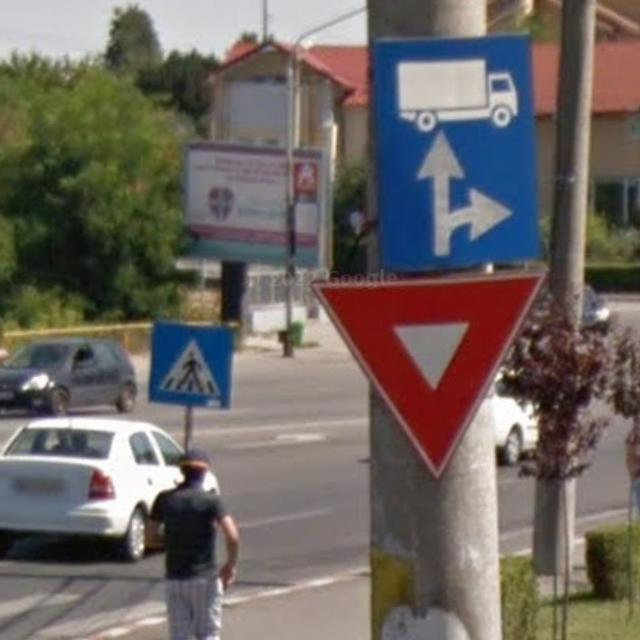info_crosswalk: (148, 322, 235, 407)
prio_give_way: (308, 276, 542, 477)
